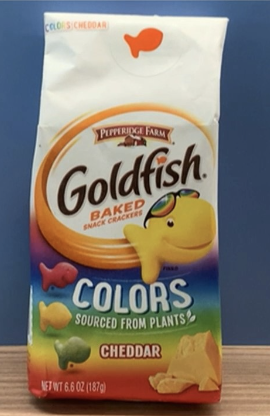crackers_150g: (37, 110, 214, 396)
